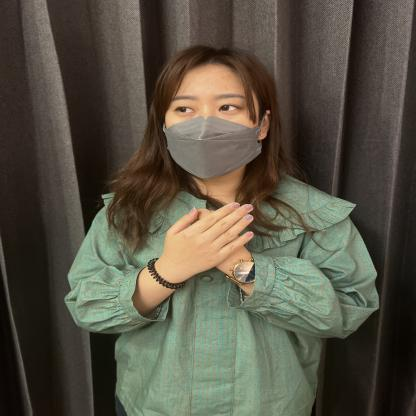Grieve: (130, 177, 378, 353)
